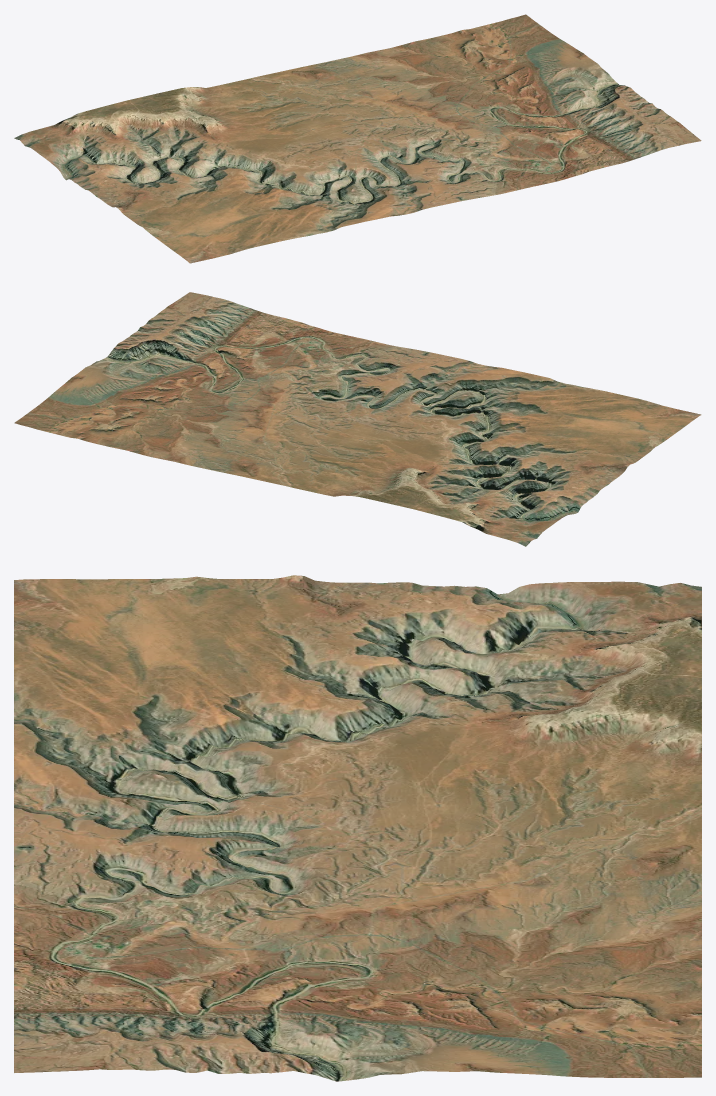
The model's file is mexican_hat_utah__san_juan_river.glb.
The picture shows the model from 3 angles, top to bottom: view 1: azimuth 30°, elevation 25°; view 2: azimuth 150°, elevation 25°; view 3: azimuth 270°, elevation 25°; orthographic projection. The views are drawn at different scales.
Visible parts, largest first — view 1: Object_3; view 2: Object_3; view 3: Object_3.
Part boxes in pixels (x1,y1,x2,y2): Object_3: (14,14,701,263); Object_3: (14,292,701,546); Object_3: (14,575,701,1081).
Size of the model in its own units: 25683 by 776 by 15288.
1 material, 1 textured.
